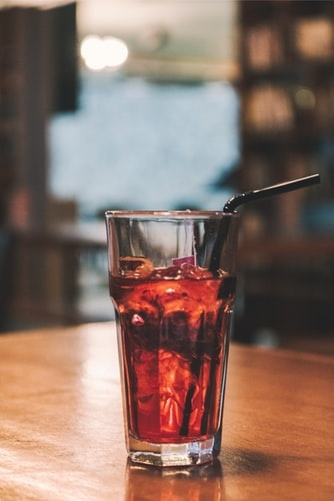whiskey: (109, 213, 245, 463)
